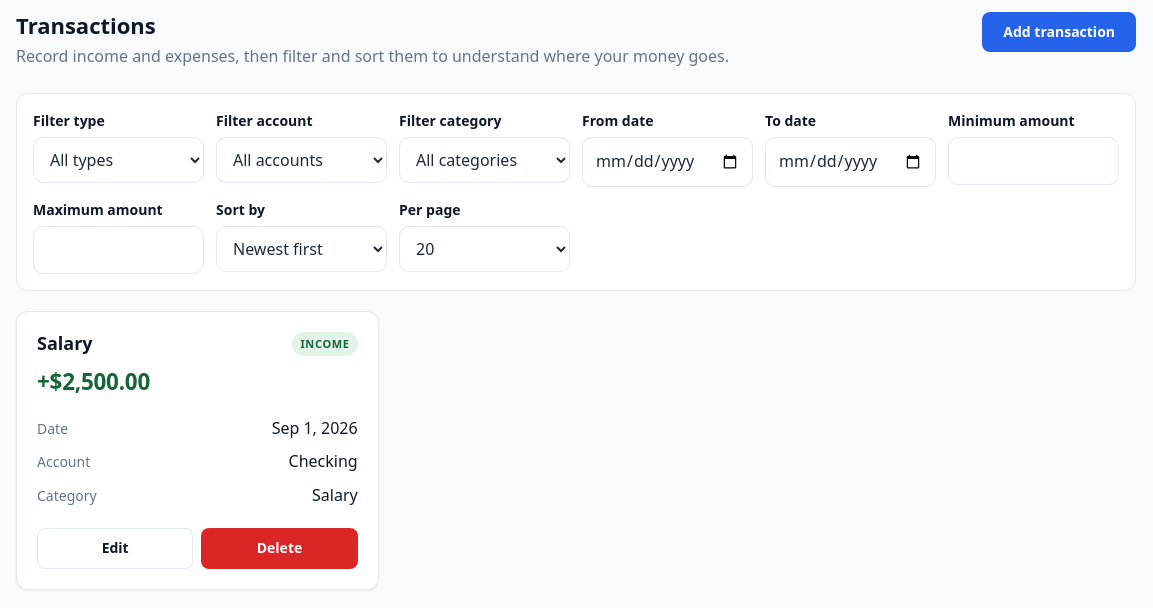
Test: TransactionsPage list › shows an empty filtered result state
Expected: the element "Salary" is shown, x1=16 y1=311 x2=379 y2=590
Select "Expense" in the dropdown labelled "Filter type": (118, 160) x1=33 y1=138 x2=204 y2=184
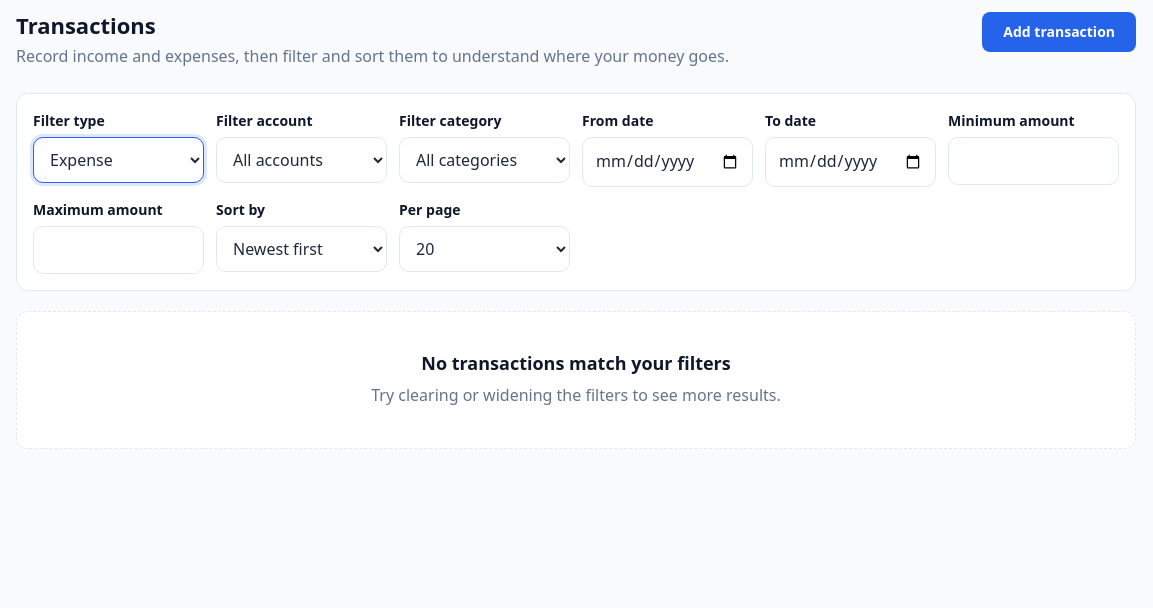
Expected: the heading "No transactions match your filters" is shown, x1=421 y1=352 x2=731 y2=375
